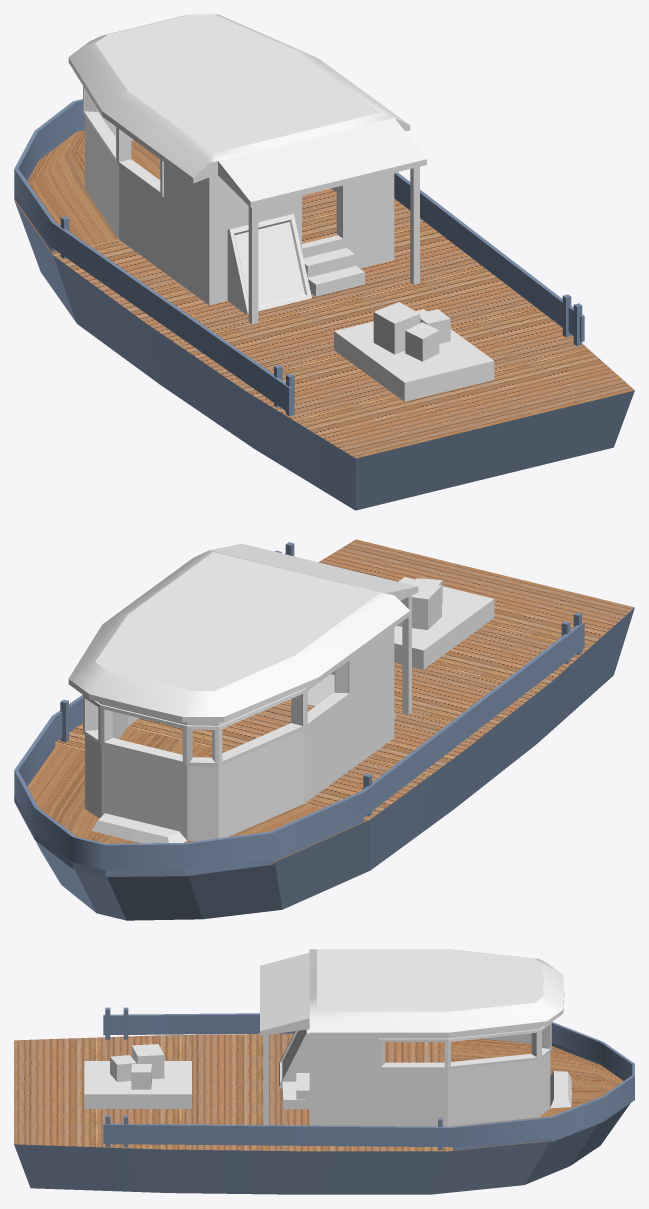
Rendered from boat.fbx.
The picture shows the model from 3 angles, top to bottom: view 1: azimuth 30°, elevation 25°; view 2: azimuth 150°, elevation 25°; view 3: azimuth 270°, elevation 25°; orthographic projection. The views are drawn at different scales.
Visible parts, largest first — view 1: boat, railing, platform, box1, pole1, pole2, stair1, box3, stair2; view 2: boat, railing, platform, box1, pole1; view 3: boat, railing, platform, box1, box3, stair1, box2, pole2, stair2.
Boxes of the visible parts, left/top/right/bottom form: boat: left=14, top=14, right=634, bottom=510; railing: left=14, top=99, right=584, bottom=413; platform: left=334, top=309, right=494, bottom=401; box1: left=373, top=302, right=420, bottom=354; pole1: left=248, top=206, right=258, bottom=324; pole2: left=410, top=166, right=419, bottom=284; stair1: left=307, top=265, right=364, bottom=296; box3: left=405, top=322, right=439, bottom=361; stair2: left=303, top=248, right=354, bottom=277; boat: left=14, top=539, right=634, bottom=920; railing: left=14, top=553, right=584, bottom=876; platform: left=394, top=577, right=494, bottom=669; box1: left=397, top=581, right=441, bottom=629; pole1: left=402, top=595, right=411, bottom=714; boat: left=14, top=949, right=630, bottom=1194; railing: left=103, top=1013, right=634, bottom=1150; platform: left=84, top=1061, right=191, bottom=1108; box1: left=132, top=1044, right=164, bottom=1079; box3: left=110, top=1055, right=136, bottom=1081; stair1: left=282, top=1081, right=309, bottom=1109; box2: left=131, top=1064, right=151, bottom=1089; pole2: left=263, top=1034, right=268, bottom=1124; stair2: left=296, top=1073, right=309, bottom=1099.
Size of the model in its own units: 21.29 by 13.41 by 47.32.
3 materials, 1 textured.
